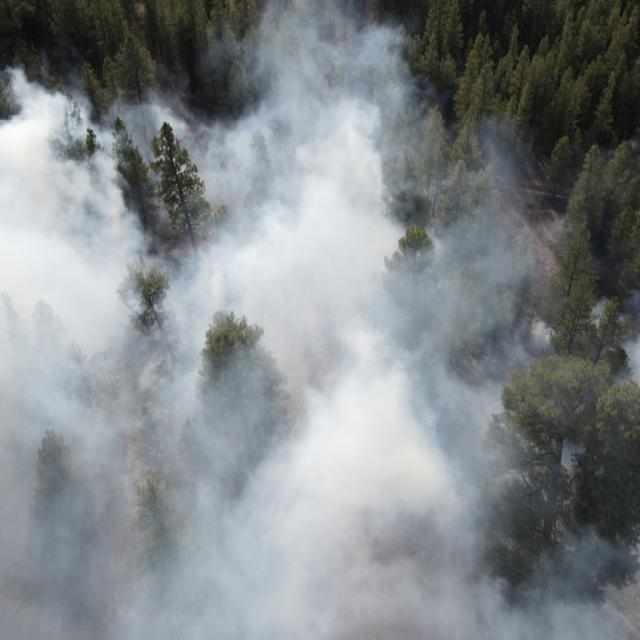smoke: (0, 65, 454, 640), (454, 114, 586, 640), (586, 289, 640, 640), (202, 0, 420, 64)
